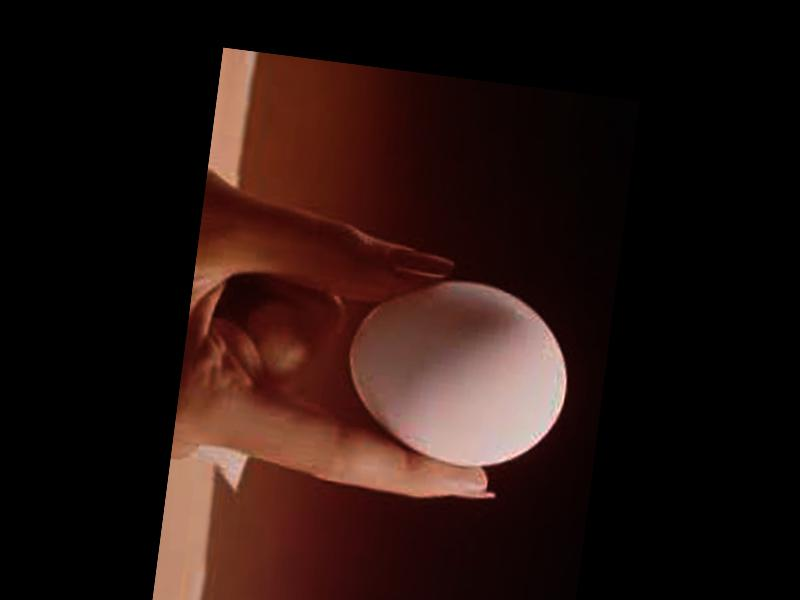Eggs: (334, 264, 577, 477)
